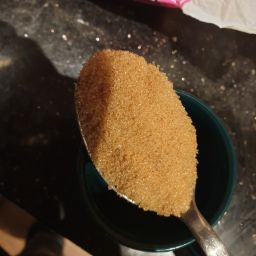Brown Sugar: (59, 44, 214, 230), (94, 83, 180, 183), (127, 110, 191, 202), (96, 65, 153, 155)
